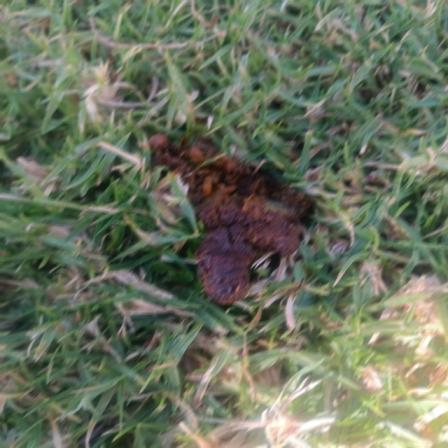dog-poop: (150, 128, 316, 288)
